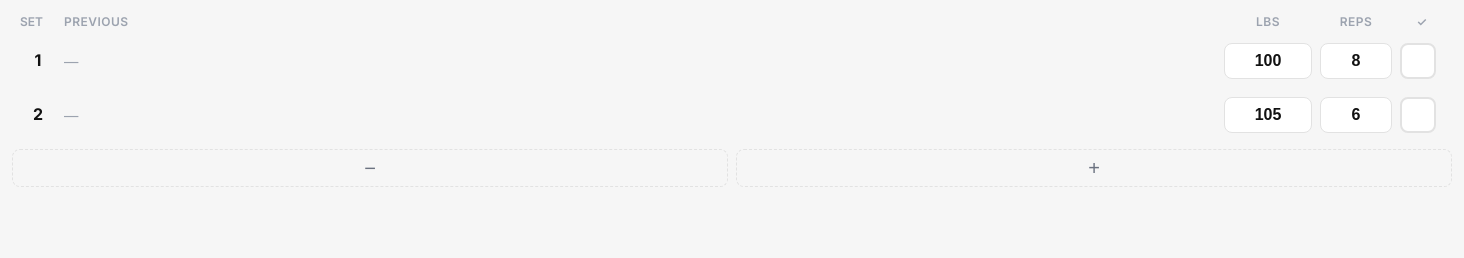
SetTable › + adds a set copying the last one
Step 1. Click the button named "Add Bench set" → [1094, 168], box [736,149,1452,187]
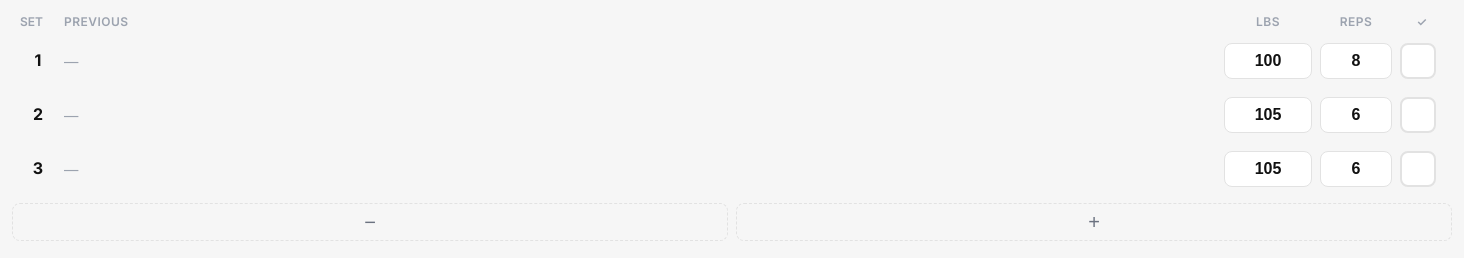
Expected: the number field named "Set 3 weight" holds "105", [1224,151,1312,187]
